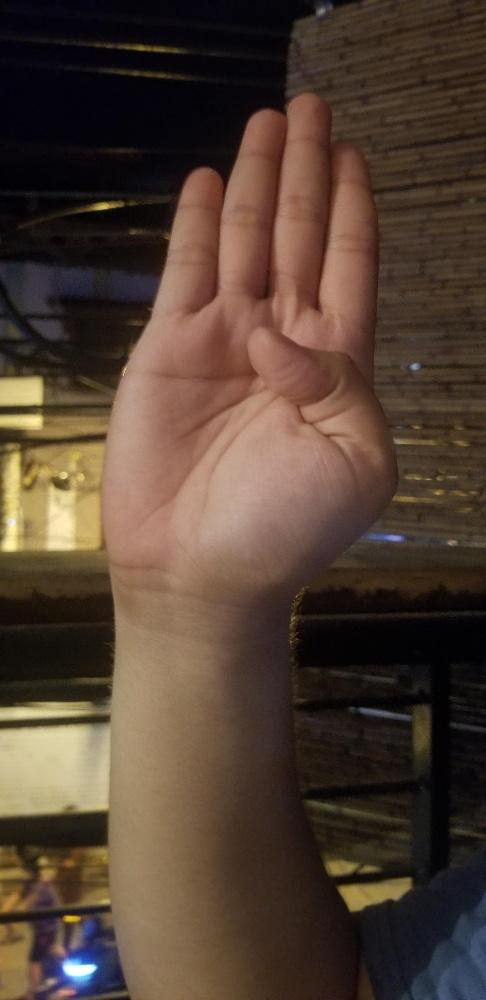b: (101, 88, 402, 572)
